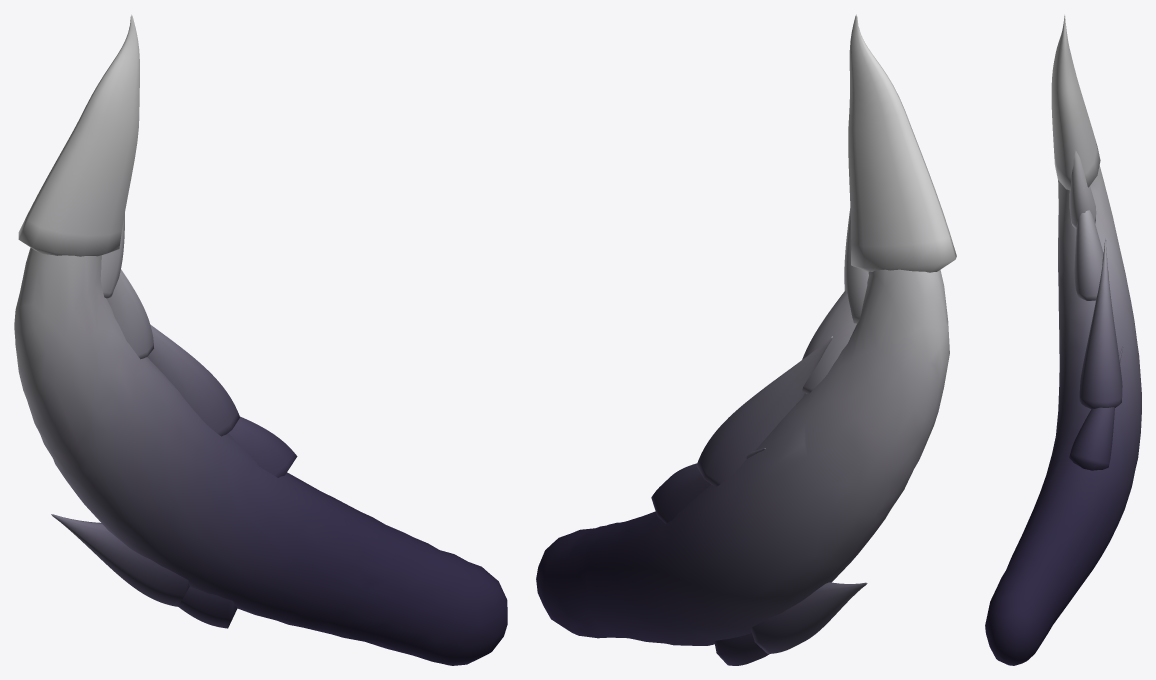
File: monarca_chama_frente_e.fbx
3 views of the same model, side by side, from view 1: azimuth 30°, elevation 25°; view 2: azimuth 150°, elevation 25°; view 3: azimuth 270°, elevation 25° (orthographic). The views are drawn at different scales.
Visible parts, largest first — view 1: monarca_chama_frente_e; view 2: monarca_chama_frente_e; view 3: monarca_chama_frente_e.
Boxes of the visible parts, bbox=[...] form: monarca_chama_frente_e: bbox=[14, 14, 507, 665]; monarca_chama_frente_e: bbox=[536, 14, 956, 665]; monarca_chama_frente_e: bbox=[985, 14, 1141, 665].
Bounding box in the file's own units: 1.86 × 2.79 × 0.7395.
